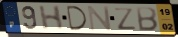9: (22, 5, 39, 30)
B: (135, 6, 159, 32)
D: (65, 5, 89, 32)
H: (38, 5, 65, 31)
N: (87, 5, 114, 32)
Z: (113, 7, 138, 30)
